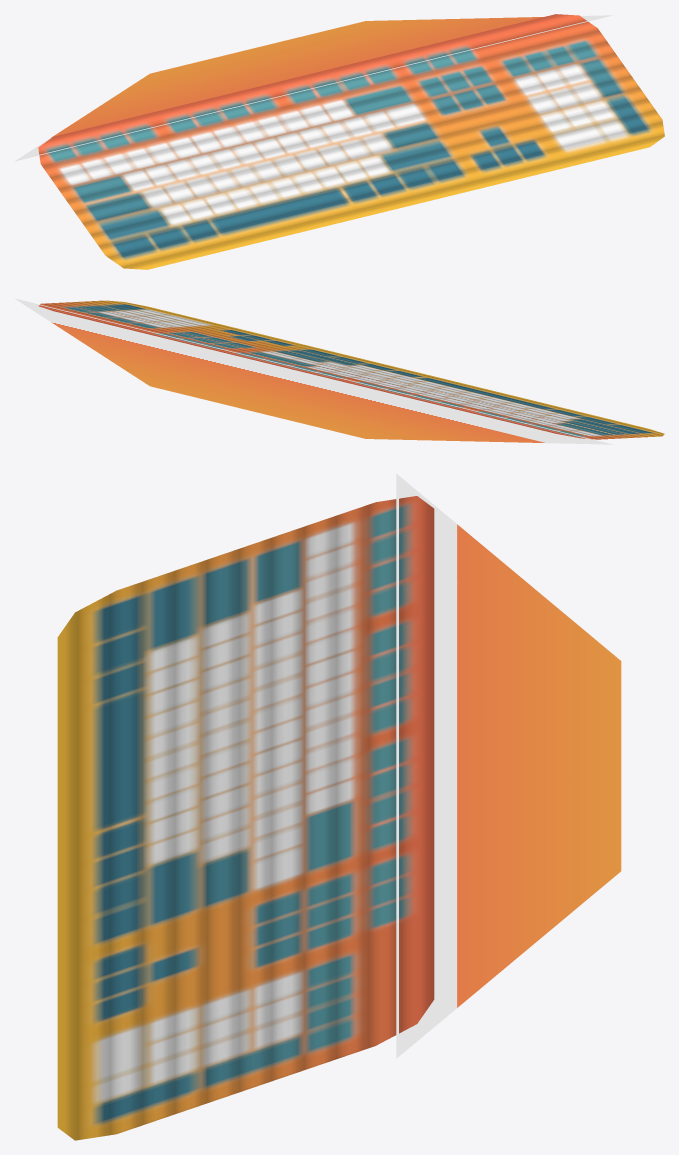
The model's file is Terminal_012_monitor_001.fbx.
3 views of the same model, one above another, from view 1: azimuth 30°, elevation 25°; view 2: azimuth 150°, elevation 25°; view 3: azimuth 270°, elevation 25° (orthographic). The views are drawn at different scales.
Visible parts, largest first — view 1: Terminal_012_monitor_001; view 2: Terminal_012_monitor_001; view 3: Terminal_012_monitor_001.
Part boxes in pixels (<box>): Terminal_012_monitor_001: <box>14,14,664,269</box>; Terminal_012_monitor_001: <box>14,298,664,444</box>; Terminal_012_monitor_001: <box>57,473,621,1140</box>.
Size of the model in its own units: 60.95 by 24.77 by 6.23.
